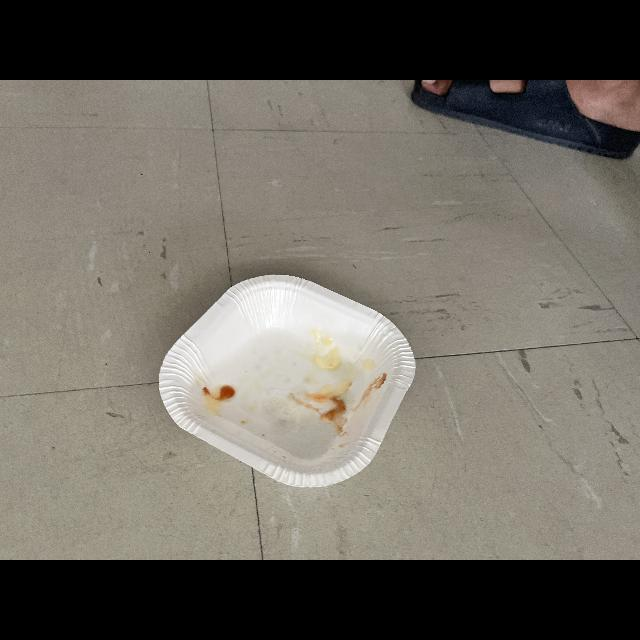cardboard_bowl: (154, 264, 422, 498)
